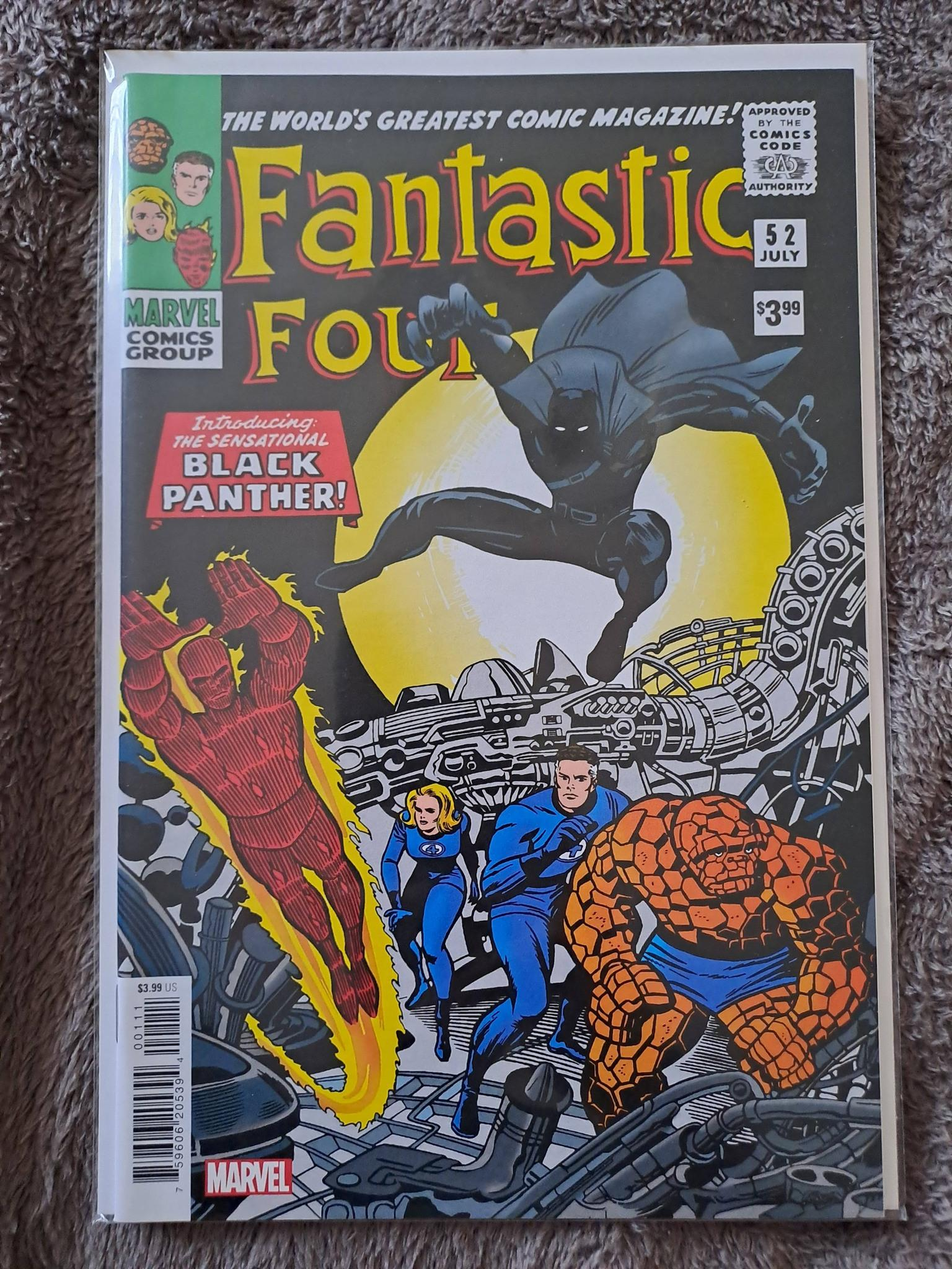comic: (88, 46, 901, 1225)
